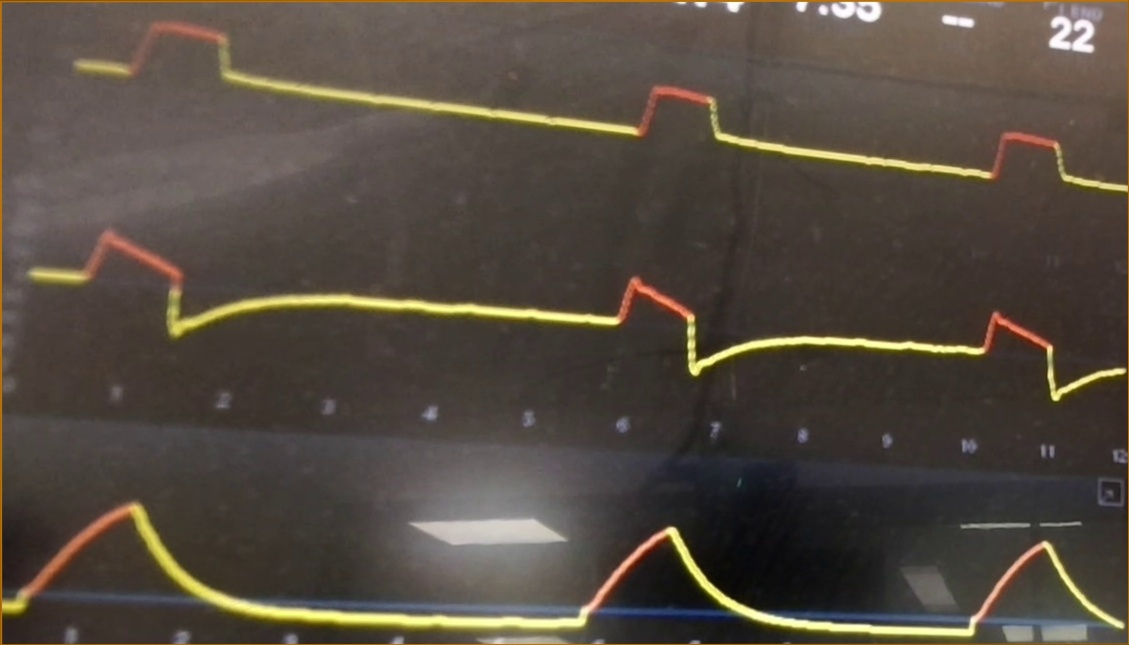Normal Flow: (30, 217, 1125, 401)
Normal Volume: (6, 483, 1121, 641)
